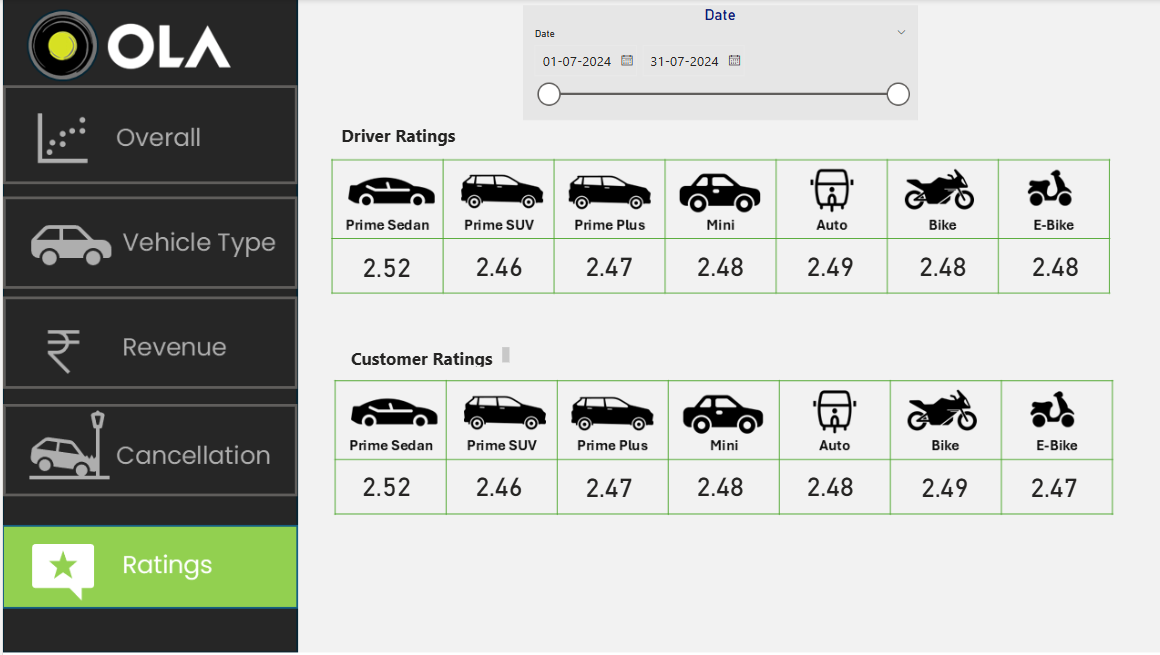

This screenshot's page, from the dashboard's own definition file:
{"tool":"powerbi","page":{"name":"Ratings","canvas":[1280,720],"ordinal":4},"visuals":[{"type":"actionButton","box":[0,217.2,323.3,101.3],"z":0},{"type":"actionButton","box":[0,326.9,323.3,101.3],"z":1000},{"type":"actionButton","box":[0,445.2,323.3,101.3],"z":2000},{"type":"actionButton","box":[0,95.3,323.3,108.6],"z":3000},{"type":"card","fields":{"Values":["Avg(Bookings_Cleaned.Driver_Ratings)"]},"box":[366,268,110.3,50.5],"z":4000},{"type":"card","fields":{"Values":["Avg(Bookings_Cleaned.Driver_Ratings)"]},"box":[489.9,267.6,109.8,49.4],"z":5000},{"type":"card","fields":{"Values":["Avg(Bookings_Cleaned.Driver_Ratings)"]},"box":[610.6,267.6,109.8,49.4],"z":6000},{"type":"card","fields":{"Values":["Avg(Bookings_Cleaned.Driver_Ratings)"]},"box":[732.8,267.6,109.8,49.4],"z":7000},{"type":"card","fields":{"Values":["Avg(Bookings_Cleaned.Driver_Ratings)"]},"box":[853.5,267.6,109.8,49.4],"z":8000},{"type":"card","fields":{"Values":["Avg(Bookings_Cleaned.Driver_Ratings)"]},"box":[977,267.6,109.8,49.4],"z":9000},{"type":"card","fields":{"Values":["Avg(Bookings_Cleaned.Driver_Ratings)"]},"box":[1100.5,267.6,109.8,49.4],"z":10000},{"type":"textbox","box":[366.4,131.7,160.5,38.4],"z":11000},{"type":"textbox","box":[366.4,377.4,194.9,31.6],"z":12000},{"type":"card","fields":{"Values":["Avg(Bookings_Cleaned.Customer_Rating)"]},"box":[366.4,509.1,109.8,49.4],"z":13000},{"type":"card","fields":{"Values":["Avg(Bookings_Cleaned.Customer_Rating)"]},"box":[489.9,508.4,109.7,49.8],"z":14000},{"type":"card","fields":{"Values":["Avg(Bookings_Cleaned.Customer_Rating)"]},"box":[611,509.8,109.7,49.8],"z":15000},{"type":"card","fields":{"Values":["Avg(Bookings_Cleaned.Customer_Rating)"]},"box":[733.4,508.4,109.7,49.8],"z":16000},{"type":"card","fields":{"Values":["Avg(Bookings_Cleaned.Customer_Rating)"]},"box":[853.1,508.4,109.7,49.8],"z":17000},{"type":"card","fields":{"Values":["Avg(Bookings_Cleaned.Customer_Rating)"]},"box":[977,509.8,113.9,49.8],"z":18000},{"type":"card","fields":{"Values":["Avg(Bookings_Cleaned.Customer_Rating)"]},"box":[1099.4,509.8,109.7,49.8],"z":19000},{"type":"slicer","title":"Date","fields":{"Values":["Bookings_Cleaned.Date"]},"box":[571.1,7.1,432.9,125.3],"z":20000}]}

Visuals, with their boxes in screenshot pixels (x1, y1, x2, y2), scaled from the page's 1280x720 canvas onto the 1160x655 screenshot:
actionButton: [0, 198, 293, 290]
actionButton: [0, 297, 293, 390]
actionButton: [0, 405, 293, 497]
actionButton: [0, 87, 293, 185]
card - Avg(Bookings_Cleaned.Driver_Ratings): [332, 244, 432, 290]
card - Avg(Bookings_Cleaned.Driver_Ratings): [444, 243, 543, 288]
card - Avg(Bookings_Cleaned.Driver_Ratings): [553, 243, 653, 288]
card - Avg(Bookings_Cleaned.Driver_Ratings): [664, 243, 764, 288]
card - Avg(Bookings_Cleaned.Driver_Ratings): [773, 243, 873, 288]
card - Avg(Bookings_Cleaned.Driver_Ratings): [885, 243, 985, 288]
card - Avg(Bookings_Cleaned.Driver_Ratings): [997, 243, 1097, 288]
textbox: [332, 120, 478, 155]
textbox: [332, 343, 509, 372]
card - Avg(Bookings_Cleaned.Customer_Rating): [332, 463, 432, 508]
card - Avg(Bookings_Cleaned.Customer_Rating): [444, 463, 543, 508]
card - Avg(Bookings_Cleaned.Customer_Rating): [554, 464, 653, 509]
card - Avg(Bookings_Cleaned.Customer_Rating): [665, 463, 764, 508]
card - Avg(Bookings_Cleaned.Customer_Rating): [773, 463, 873, 508]
card - Avg(Bookings_Cleaned.Customer_Rating): [885, 464, 989, 509]
card - Avg(Bookings_Cleaned.Customer_Rating): [996, 464, 1096, 509]
"Date" slicer: [518, 6, 910, 120]
